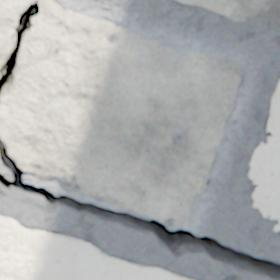brick: (0, 215, 193, 279), (248, 79, 279, 230), (175, 0, 279, 29)
broken_brick: (0, 0, 240, 225), (0, 0, 34, 67)
crack: (0, 136, 279, 279), (0, 0, 39, 98)
